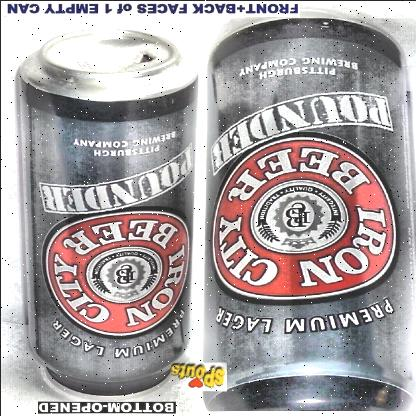Can: (200, 6, 416, 416), (11, 21, 200, 407)
